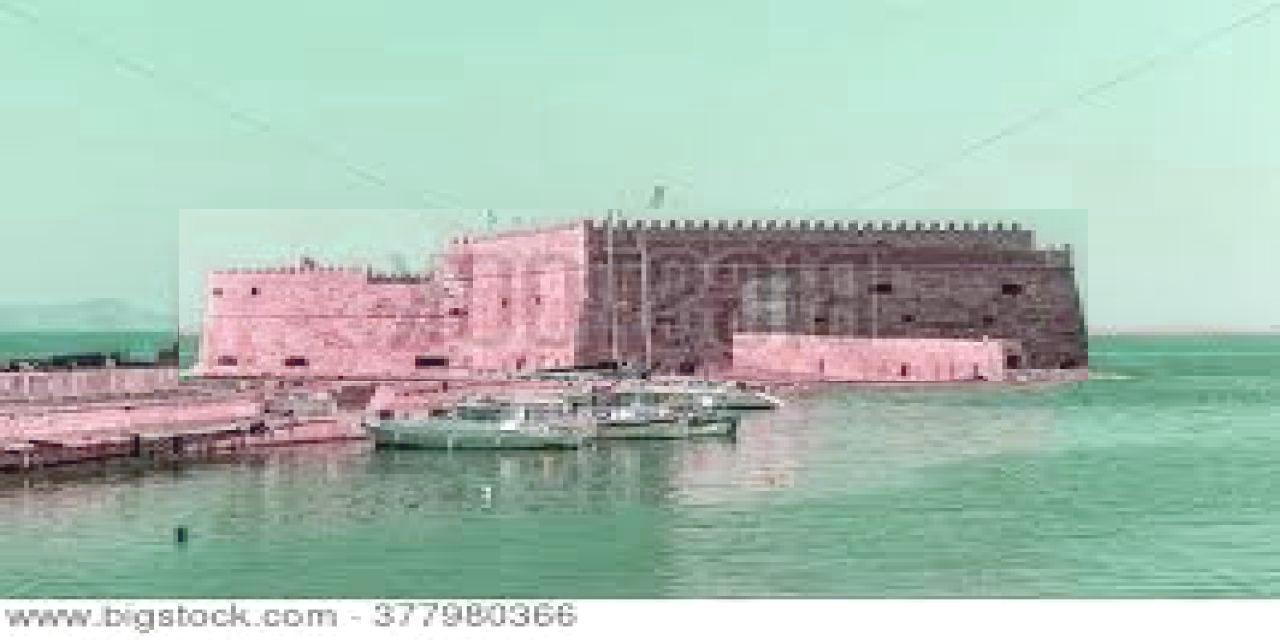Kules: (180, 210, 1089, 382)
